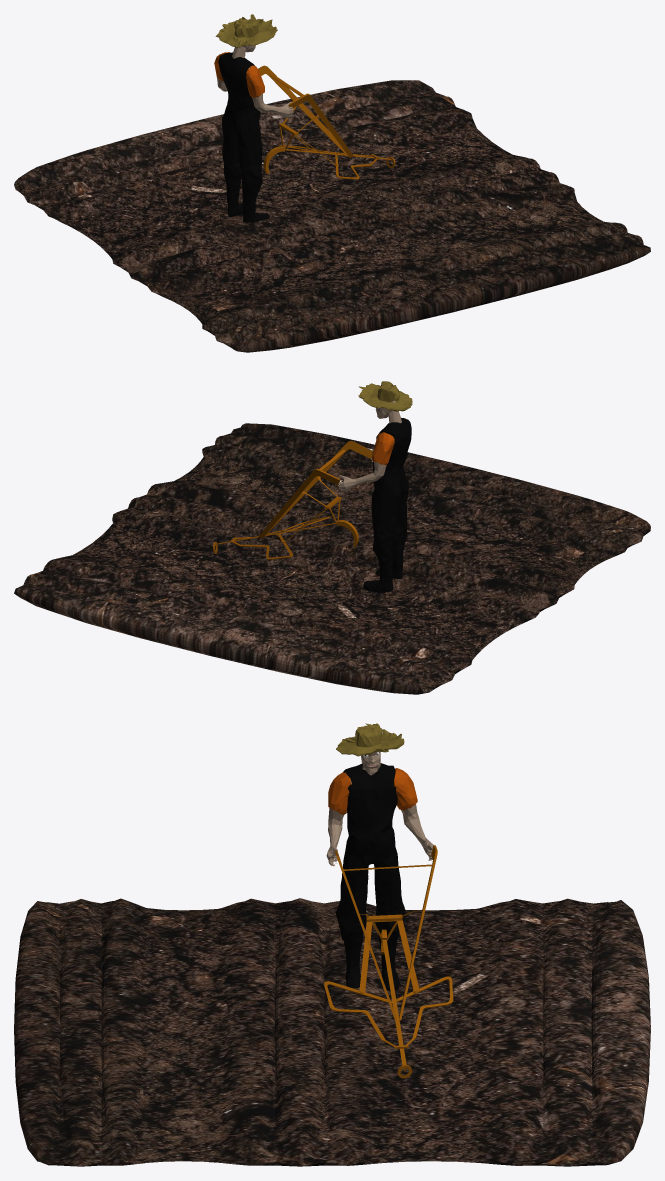
File: Experiencia 1 texturizada modificada.fbx
3 renders of one model, top to bottom at view 1: azimuth 30°, elevation 25°; view 2: azimuth 150°, elevation 25°; view 3: azimuth 270°, elevation 25°, orthographic. The views are drawn at different scales.
Parts seen in each view (by area): view 1: Plane, Mesh, Maquina._Plane.010, Sphere, Tube; view 2: Plane, Mesh, Maquina._Plane.010, Sphere, Tube; view 3: Plane, Mesh, Maquina._Plane.010, Tube, Sphere.
Boxes of the visible parts, left/top/right/bottom form: Plane: left=14, top=80, right=650, bottom=352; Mesh: left=218, top=52, right=269, bottom=222; Maquina._Plane.010: left=258, top=65, right=395, bottom=179; Sphere: left=215, top=14, right=277, bottom=58; Tube: left=214, top=52, right=293, bottom=118; Plane: left=14, top=423, right=650, bottom=694; Mesh: left=363, top=418, right=411, bottom=592; Maquina._Plane.010: left=213, top=441, right=372, bottom=559; Sphere: left=358, top=381, right=412, bottom=423; Tube: left=338, top=417, right=405, bottom=491; Plane: left=14, top=898, right=650, bottom=1166; Mesh: left=335, top=763, right=405, bottom=990; Maquina._Plane.010: left=324, top=845, right=453, bottom=1078; Tube: left=326, top=768, right=433, bottom=866; Sphere: left=336, top=723, right=404, bottom=775.
Bounding box in the file's own units: 1049 × 503 × 1061.
10 materials, 1 textured.
